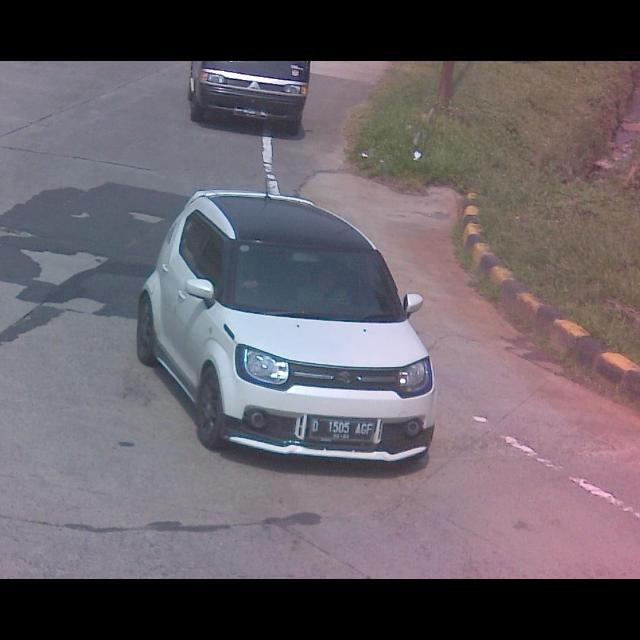plate: (308, 416, 376, 444)
